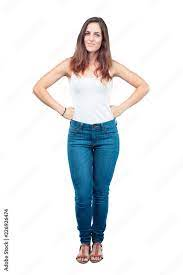face: (82, 28, 108, 53)
